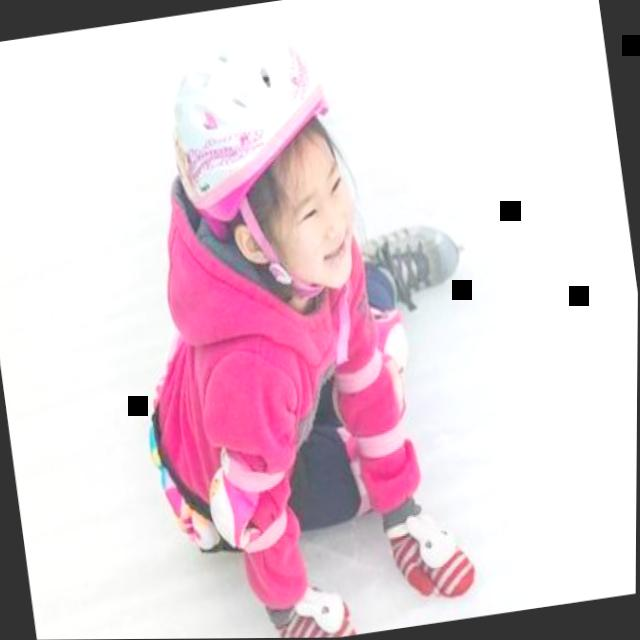Fall-Detected: (62, 0, 524, 640)
